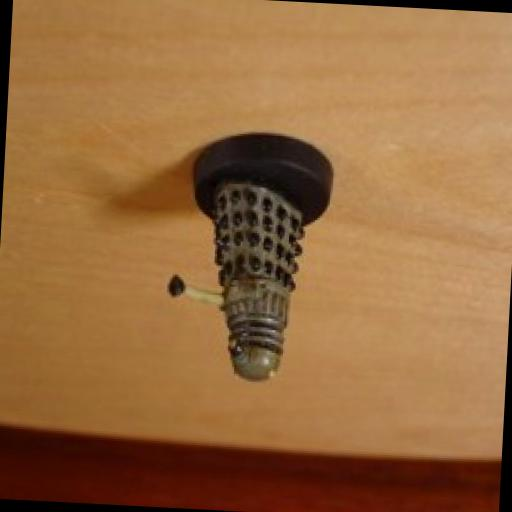dalek: (158, 172, 308, 384)
